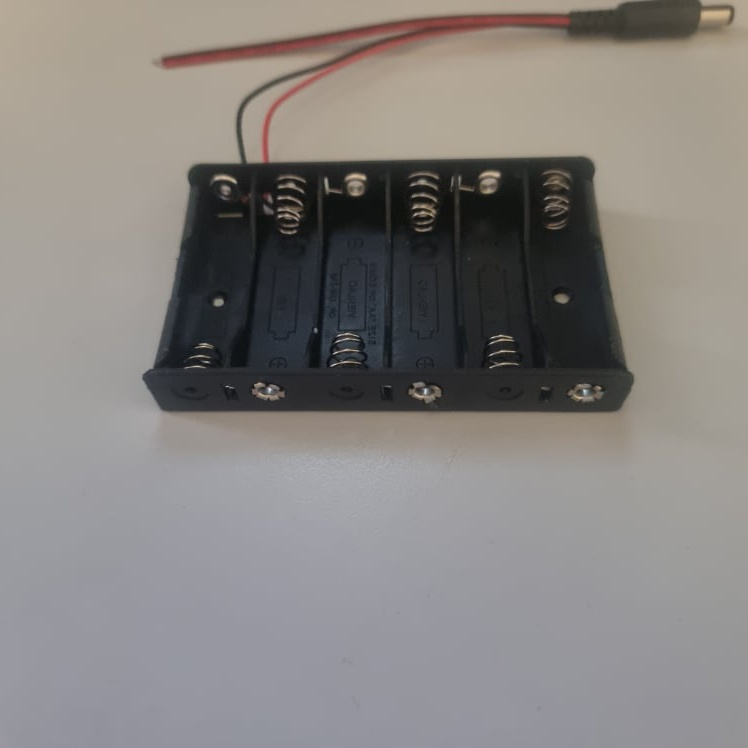BATTERY BOX: (140, 157, 636, 414)
